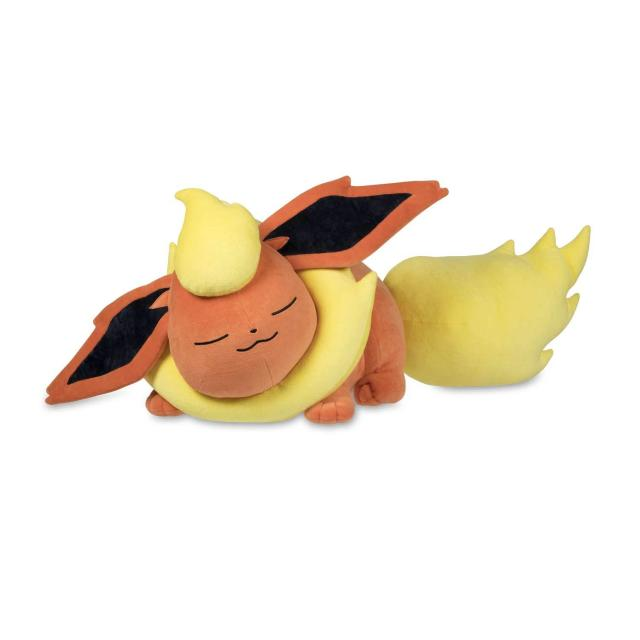Flareon: (46, 177, 493, 446)
